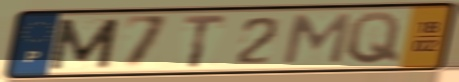2: (233, 15, 282, 66)
7: (123, 14, 170, 72)
M: (46, 16, 123, 71), (278, 12, 354, 66)
Q: (344, 10, 404, 66)
T: (180, 13, 230, 70)
